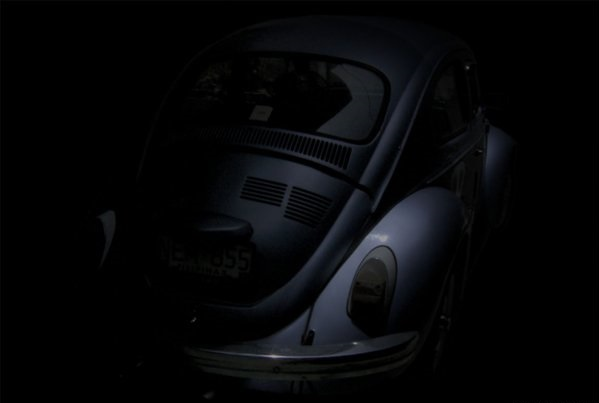car: (94, 10, 517, 379)
